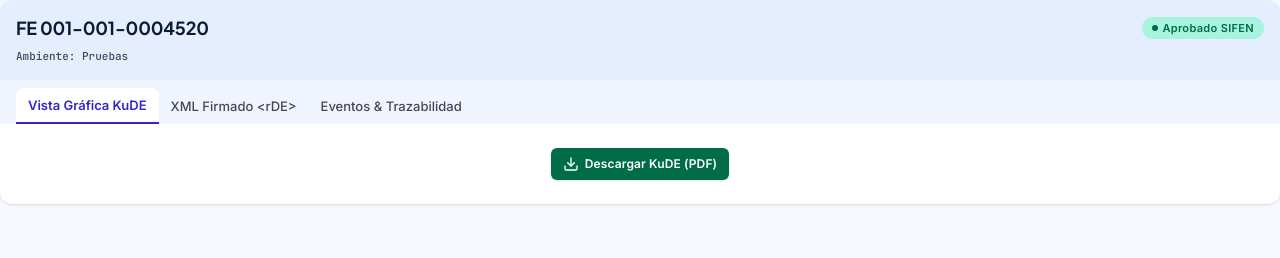
DocumentsDetail tabs › offers to retry a failed XML load
What coordinates should you click on to do the following:
click the tab "XML Firmado <rDE>"
I would click on:
 (234, 106)
Its box is [158, 89, 308, 123].
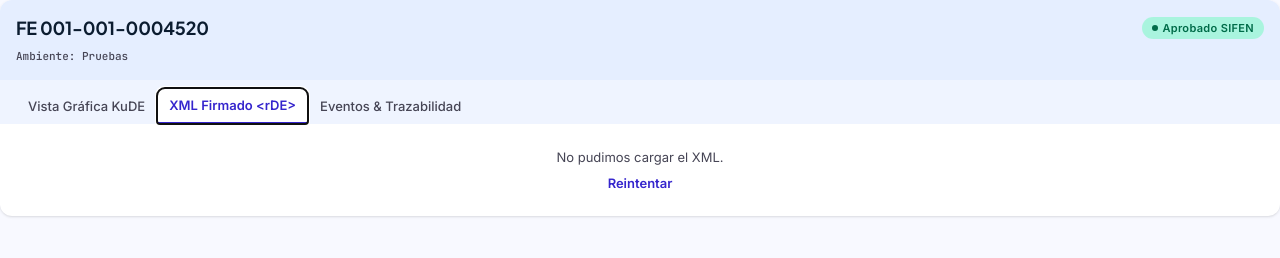
What coordinates should you click on to do the following:
click the button "Reintentar"
I would click on:
 (640, 183)
Its box is [608, 174, 672, 192].
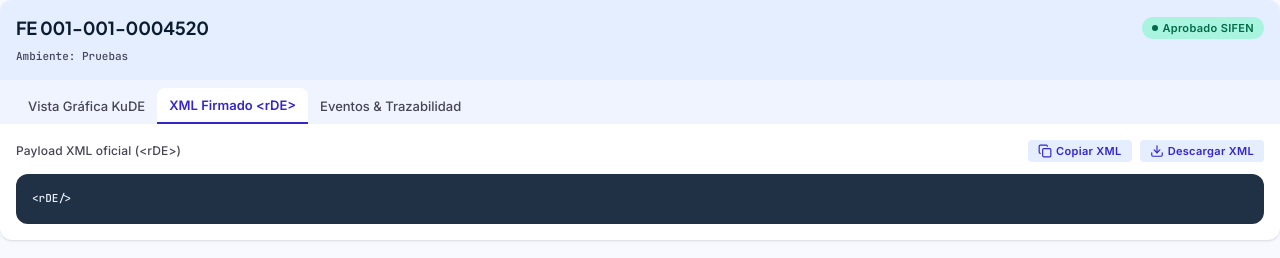
Result: the element named "XML firmado" reads "<rDE/>" at [32, 191, 72, 205]
